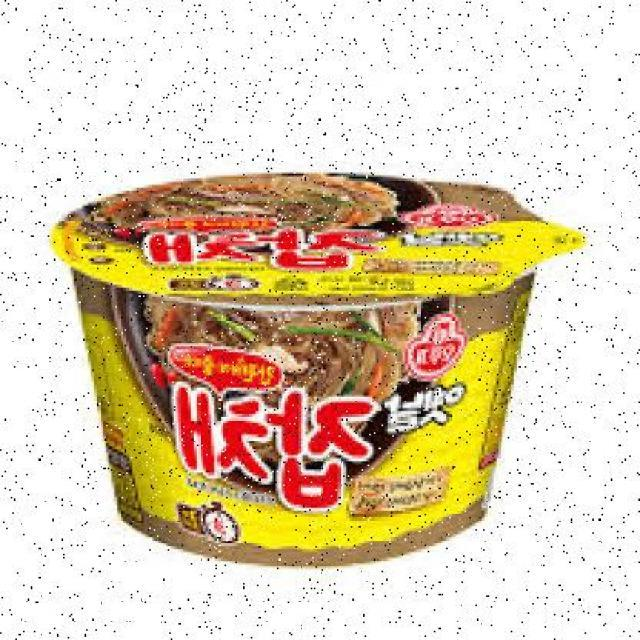Miscellaneous: (58, 176, 524, 570)
